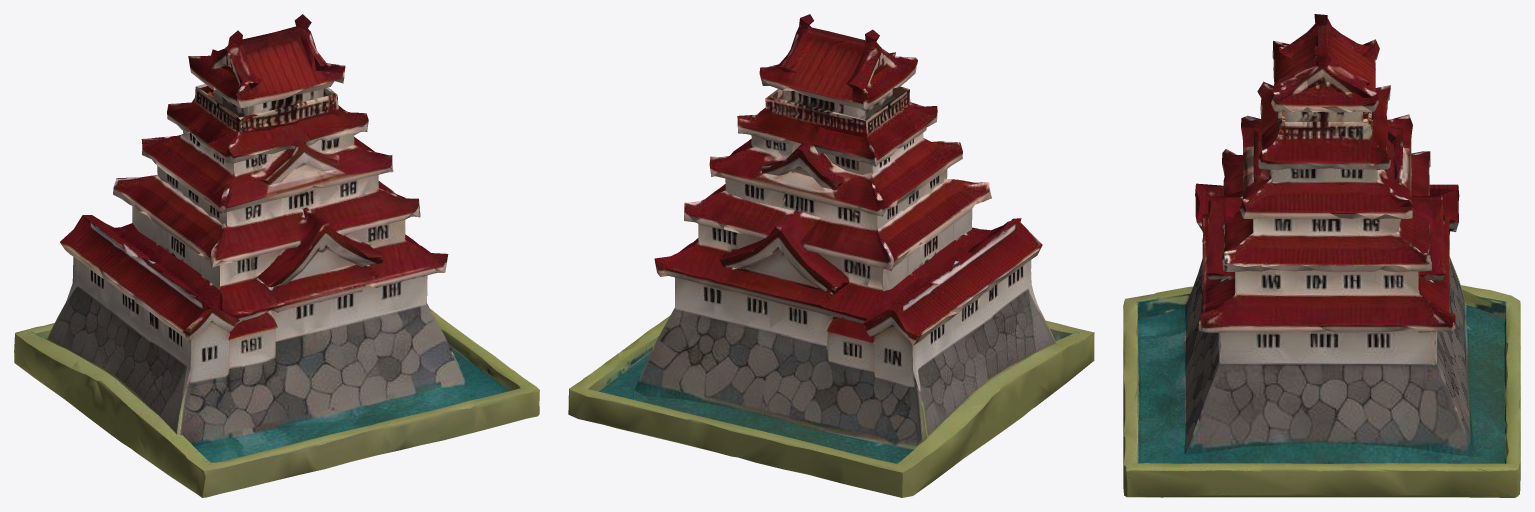
Rendered from tsuruga-castle.glb.
The picture shows the model from 3 angles, left to right: view 1: azimuth 30°, elevation 25°; view 2: azimuth 150°, elevation 25°; view 3: azimuth 270°, elevation 25°; orthographic projection. The views are drawn at different scales.
Visible parts, largest first — view 1: logan-textured.obj; view 2: logan-textured.obj; view 3: logan-textured.obj.
Boxes of the visible parts, bbox=[...] form: logan-textured.obj: bbox=[14, 14, 539, 497]; logan-textured.obj: bbox=[568, 14, 1094, 497]; logan-textured.obj: bbox=[1123, 14, 1520, 497].
Size of the model in its own units: 0.9996 by 1 by 0.9481.
Materials: 1 (1 with a texture image).
